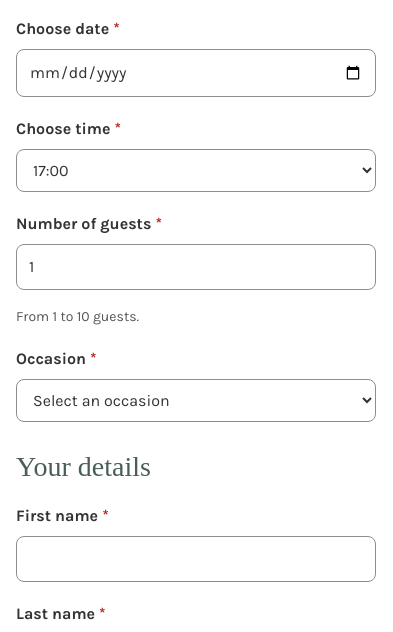
Test: the submit button is disabled until the form is valid
Type "2026-10-20" into the date field labelled "Choose date" at coordinates (196, 73), box top-left (16, 49), bottom-right (376, 97)
Select "19:00" in the dropdown labelled "Choose time" at coordinates (196, 170), box top-left (16, 149), bottom-right (376, 192)
Replace the text in the number field labelled "Number of guests" with "4" at coordinates (196, 267), box top-left (16, 244), bottom-right (376, 290)
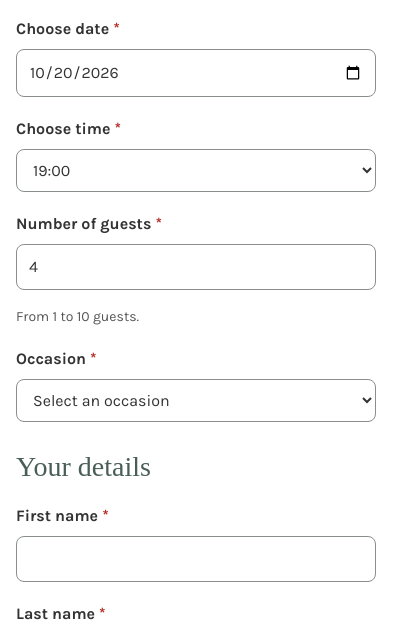
Select "Anniversary" in the dropdown labelled "Occasion" at coordinates (196, 400), box top-left (16, 379), bottom-right (376, 422)
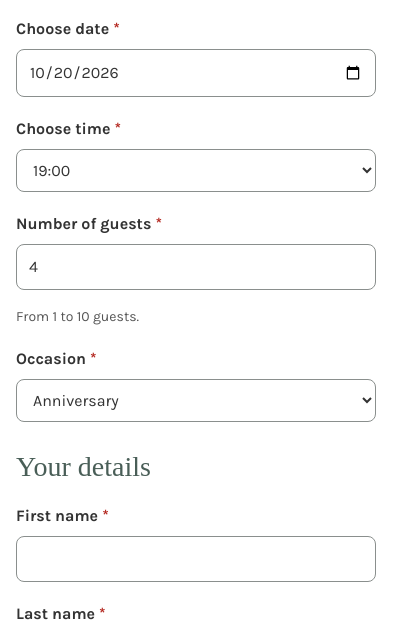
Type "Ana" into the field labelled "First name" at coordinates (196, 559), box top-left (16, 536), bottom-right (376, 582)
(page scrolled)
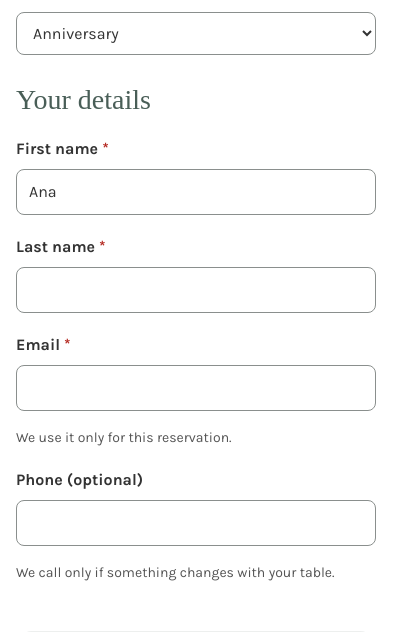
Type "Horvat" into the field labelled "Last name" at coordinates (196, 290), box top-left (16, 267), bottom-right (376, 313)
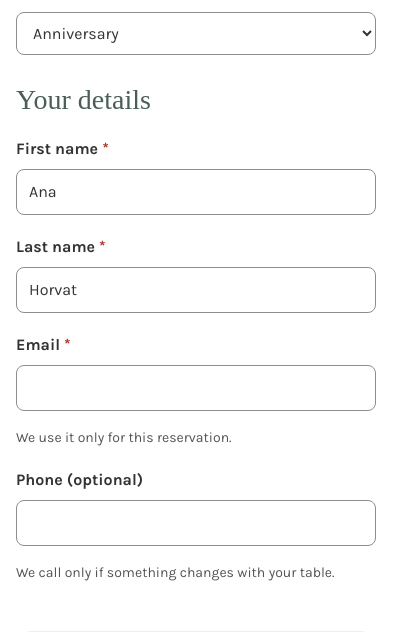
Type "ana@example.com" into the field labelled "Email" at coordinates (196, 388), box top-left (16, 365), bottom-right (376, 411)
(page scrolled)
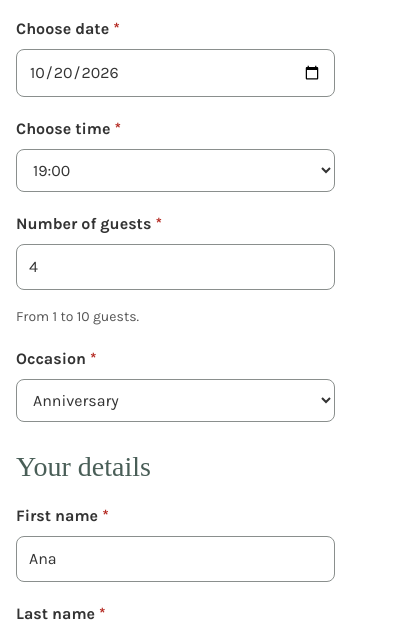
Replace the text in the number field labelled "Number of guests" with "0" at coordinates (175, 267), box top-left (16, 244), bottom-right (335, 290)
(page scrolled)
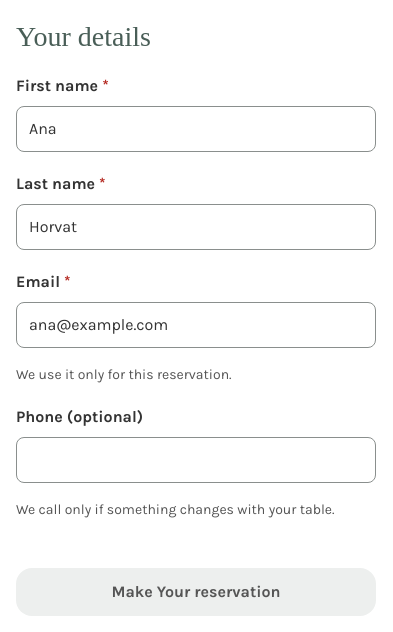
Now the button "Make Your reservation" is disabled, box top-left (16, 568), bottom-right (376, 616)
